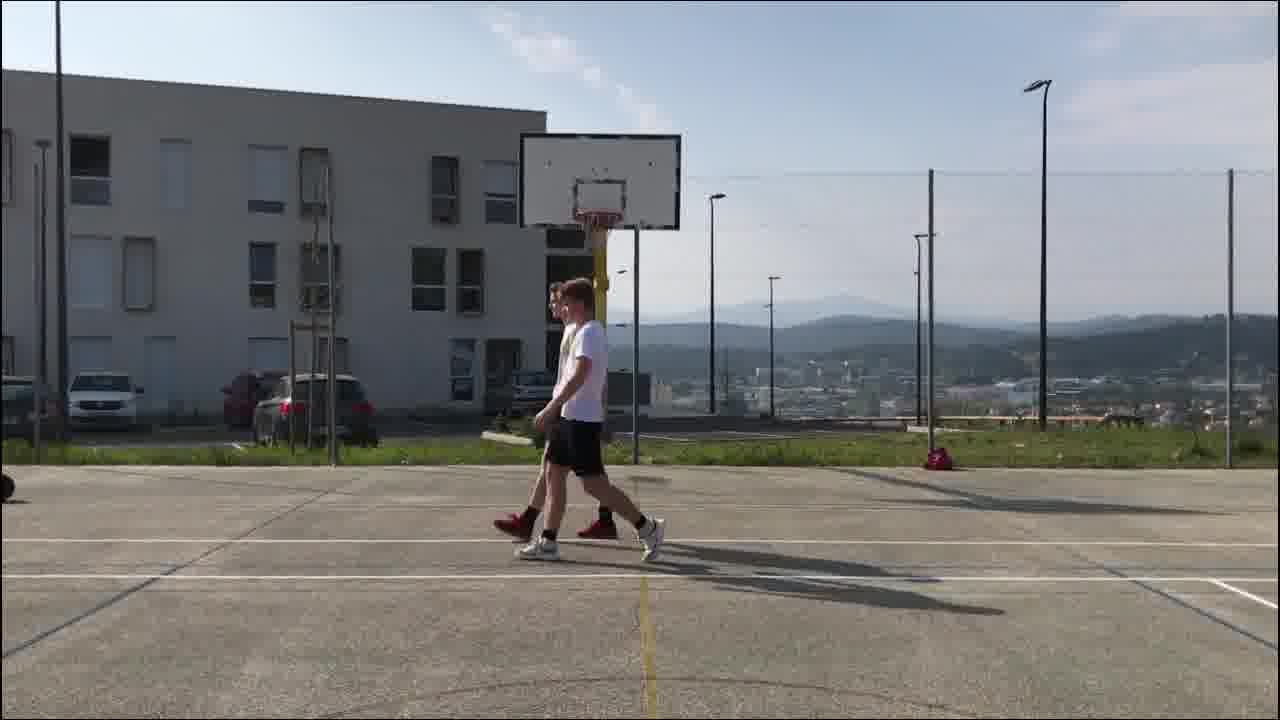jugador: (483, 267, 628, 549)
